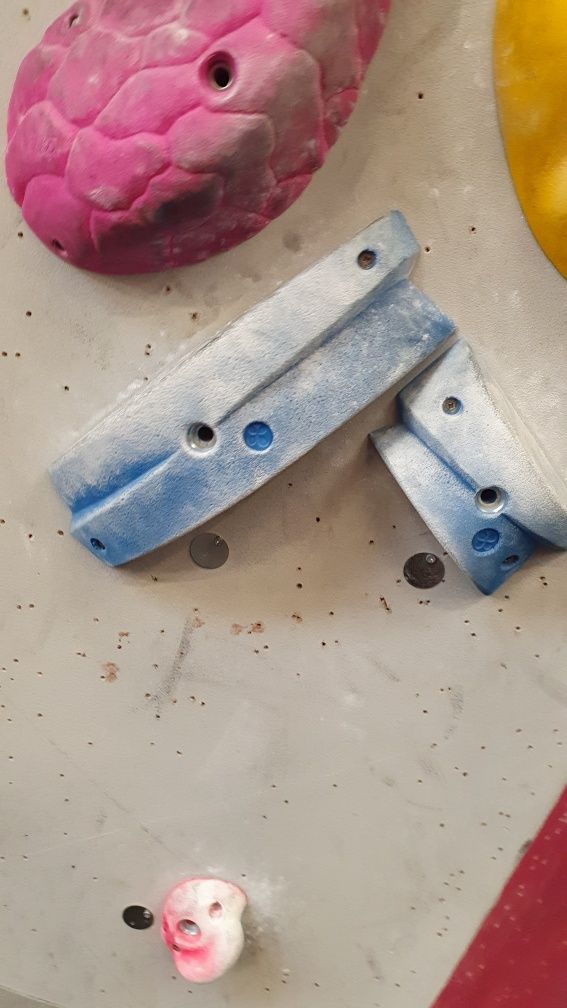Hand Start: (184, 528, 233, 574), (404, 549, 445, 595), (122, 896, 155, 933)
Pinch: (45, 207, 463, 575), (367, 337, 567, 601)
